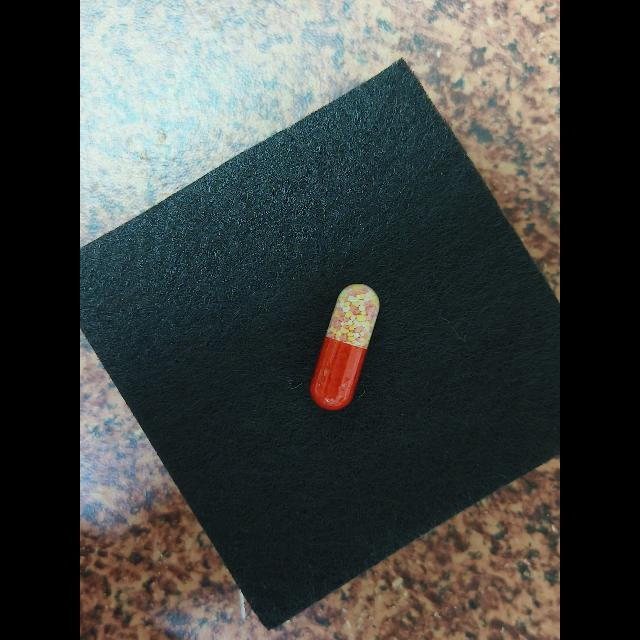Intact Capsule: (310, 284, 380, 410)
